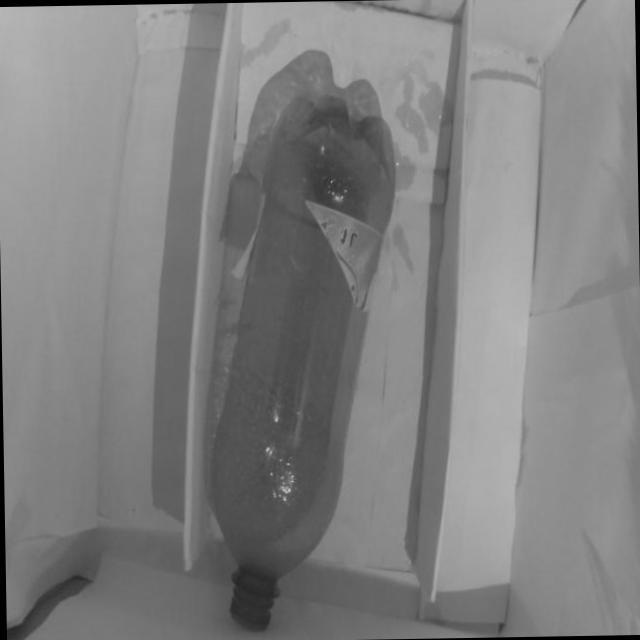good: (187, 92, 410, 638)
